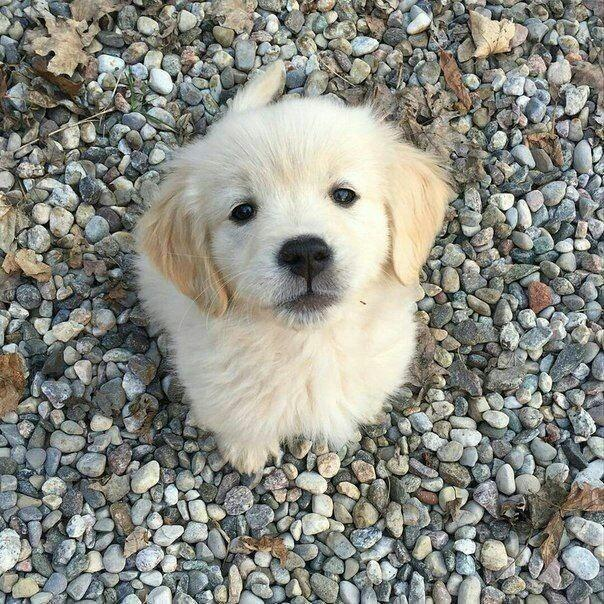puppy-dog: (130, 57, 454, 477)
